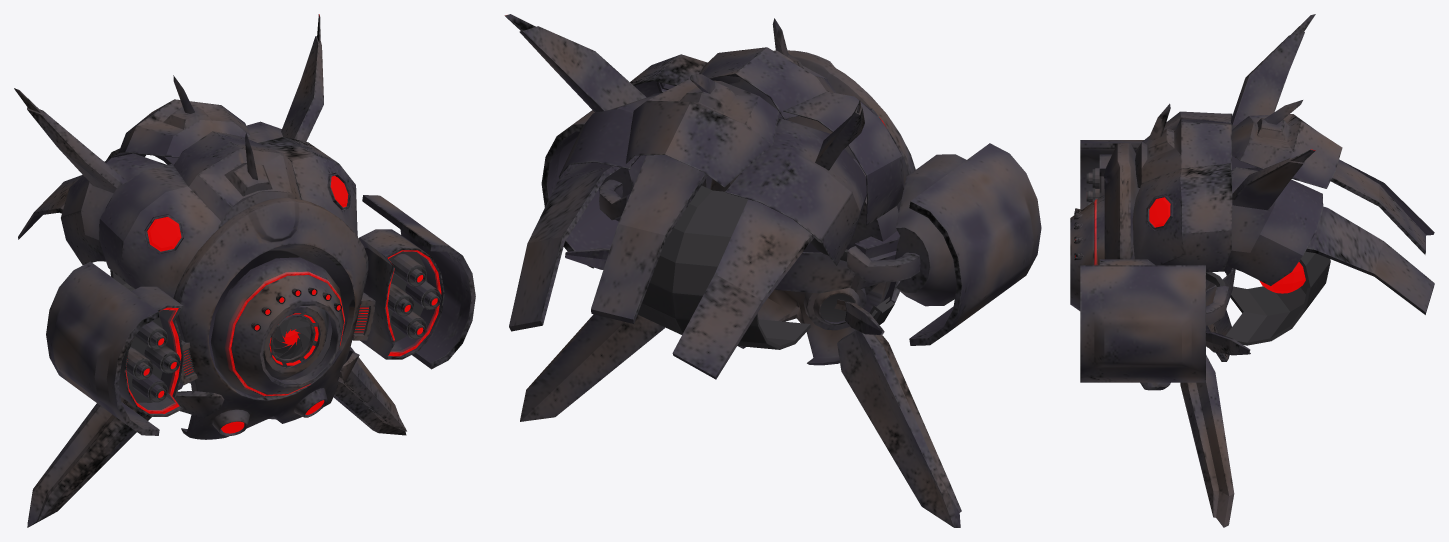
Rendered from BOSS_black.fbx.
3 views of the same model, side by side, from view 1: azimuth 30°, elevation 25°; view 2: azimuth 150°, elevation 25°; view 3: azimuth 270°, elevation 25° (orthographic). The views are drawn at different scales.
Parts seen in each view (by area): view 1: Cylinder.001, Cylinder.005, Sphere.006, Sphere, Sphere.007, Cylinder.006, Cube.004, Sphere.005, Cylinder.008, Sphere.008, Sphere.001, Plane.009 (+4 smaller); view 2: Sphere.007, Cylinder.005, Plane.011, Cube.004, Sphere.008, Cylinder.007, Cylinder.006, Plane.010, Sphere.006, Cylinder.001, Sphere.005, Cylinder.003 (+4 smaller); view 3: Cylinder.005, Sphere.007, Sphere.006, Plane.011, Sphere.008, Cube.004, Sphere.005, Cylinder.007, Cylinder.001, Plane.010, Sphere, Cylinder.006 (+2 smaller).
Boxes of the visible parts, bbox=[...] form: Cylinder.001: bbox=[173, 197, 368, 439]; Cylinder.005: bbox=[46, 195, 475, 435]; Sphere.006: bbox=[99, 137, 357, 297]; Sphere: bbox=[211, 257, 344, 397]; Sphere.007: bbox=[14, 14, 323, 264]; Cylinder.006: bbox=[119, 229, 444, 416]; Cube.004: bbox=[27, 347, 406, 527]; Sphere.005: bbox=[173, 131, 301, 226]; Cylinder.008: bbox=[126, 254, 441, 402]; Sphere.008: bbox=[118, 75, 250, 157]; Sphere.001: bbox=[263, 305, 329, 380]; Plane.009: bbox=[269, 313, 318, 367]; Sphere.007: bbox=[504, 14, 866, 265]; Cylinder.005: bbox=[541, 110, 1041, 345]; Plane.011: bbox=[509, 155, 814, 379]; Cube.004: bbox=[520, 314, 961, 527]; Sphere.008: bbox=[626, 74, 779, 187]; Cylinder.007: bbox=[637, 185, 810, 349]; Cylinder.006: bbox=[599, 154, 966, 306]; Plane.010: bbox=[591, 112, 788, 323]; Sphere.006: bbox=[630, 54, 904, 225]; Cylinder.001: bbox=[729, 50, 915, 365]; Sphere.005: bbox=[699, 18, 836, 119]; Cylinder.003: bbox=[774, 252, 854, 293]; Cylinder.005: bbox=[1080, 140, 1205, 382]; Sphere.007: bbox=[1226, 14, 1323, 285]; Sphere.006: bbox=[1132, 111, 1232, 272]; Plane.011: bbox=[1305, 160, 1434, 314]; Sphere.008: bbox=[1231, 100, 1342, 188]; Cube.004: bbox=[1180, 279, 1234, 527]; Sphere.005: bbox=[1135, 103, 1231, 187]; Cylinder.007: bbox=[1225, 251, 1330, 345]; Cylinder.001: bbox=[1103, 143, 1170, 390]; Plane.010: bbox=[1231, 155, 1425, 254]; Sphere: bbox=[1070, 195, 1104, 310]; Cylinder.006: bbox=[1099, 154, 1229, 325].
Size of the model in its own units: 632 by 627 by 574.
1 material, 1 textured.
